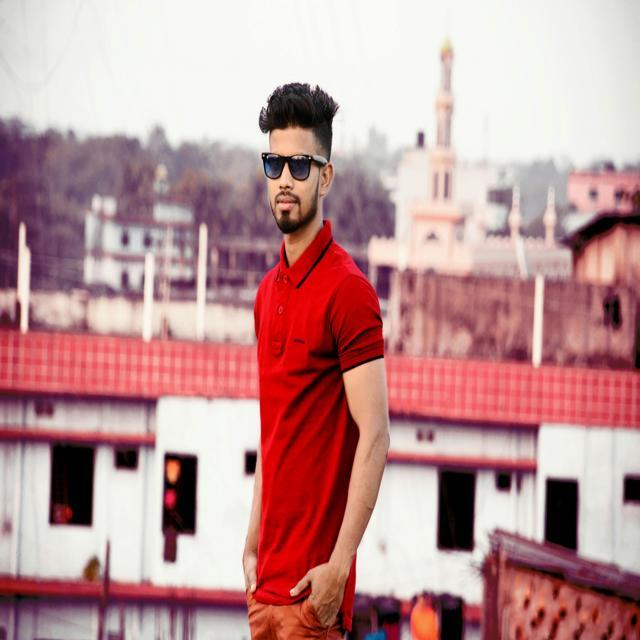2_gafas: (260, 151, 327, 180)
